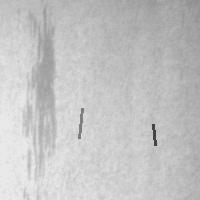inclusion: (21, 2, 60, 184), (77, 106, 84, 140), (151, 122, 157, 147)
